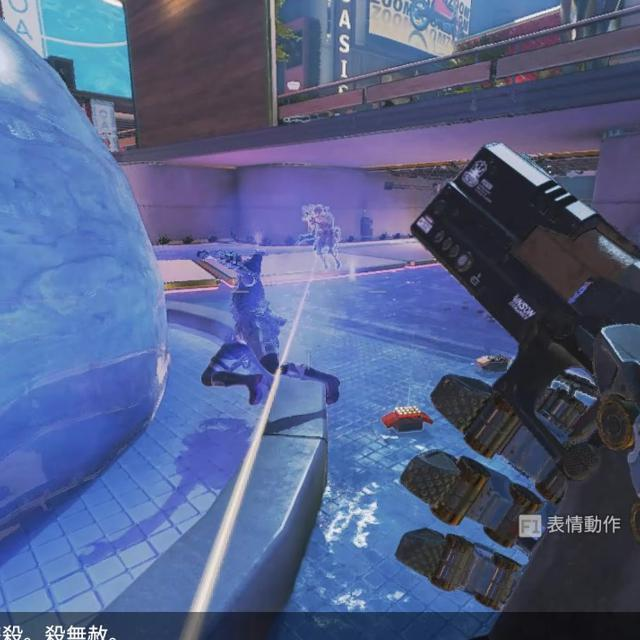avatar: (198, 249, 289, 408), (304, 203, 343, 274)
